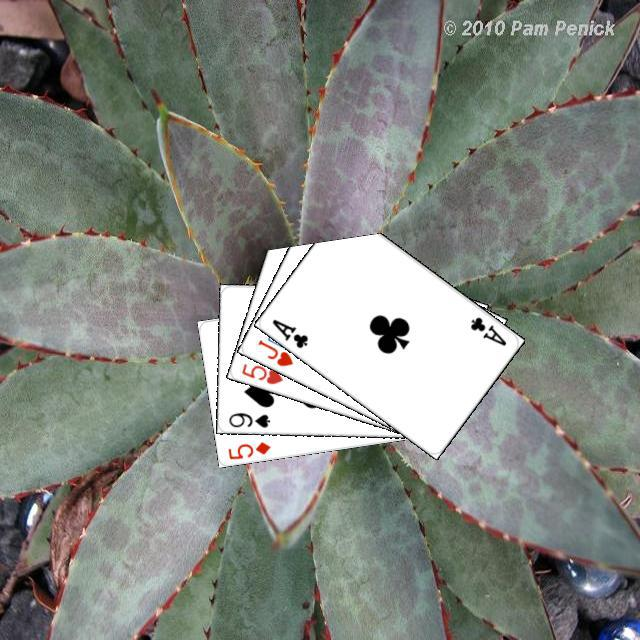5d: (223, 437, 272, 461)
5h: (237, 359, 285, 386)
9s: (224, 407, 271, 429)
Ac: (267, 314, 310, 350), (465, 312, 508, 348)
Jh: (253, 335, 295, 368)
